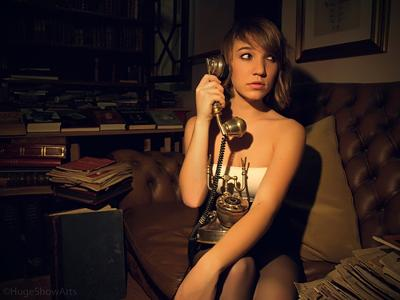person: (181, 18, 307, 298)
